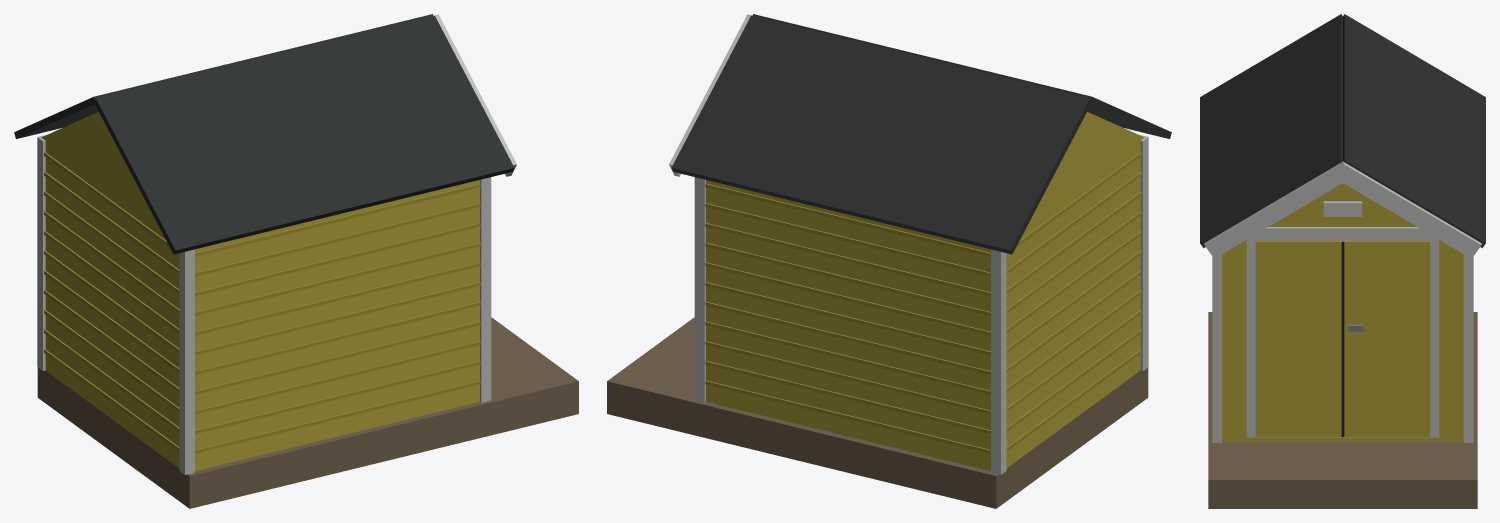
The model's file is SM_Prop_coast_beachhut_1.glb.
3 views of the same model, side by side, from view 1: azimuth 30°, elevation 25°; view 2: azimuth 150°, elevation 25°; view 3: azimuth 270°, elevation 25° (orthographic). The views are drawn at different scales.
Visible parts, largest first — view 1: SM_Prop_coast_beachhut_1; view 2: SM_Prop_coast_beachhut_1; view 3: SM_Prop_coast_beachhut_1.
Part boxes in pixels (box(x1,y1,x2,y2)): SM_Prop_coast_beachhut_1: box(14, 14, 578, 508); SM_Prop_coast_beachhut_1: box(607, 14, 1171, 508); SM_Prop_coast_beachhut_1: box(1200, 14, 1485, 508).
Size of the model in its own units: 3.25 by 2.74 by 2.23.
